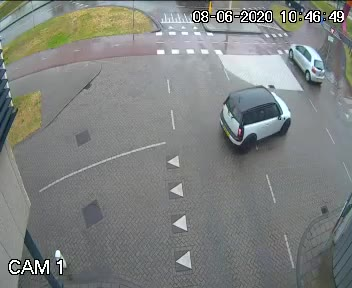car: (215, 89, 297, 150), (280, 38, 330, 96)
